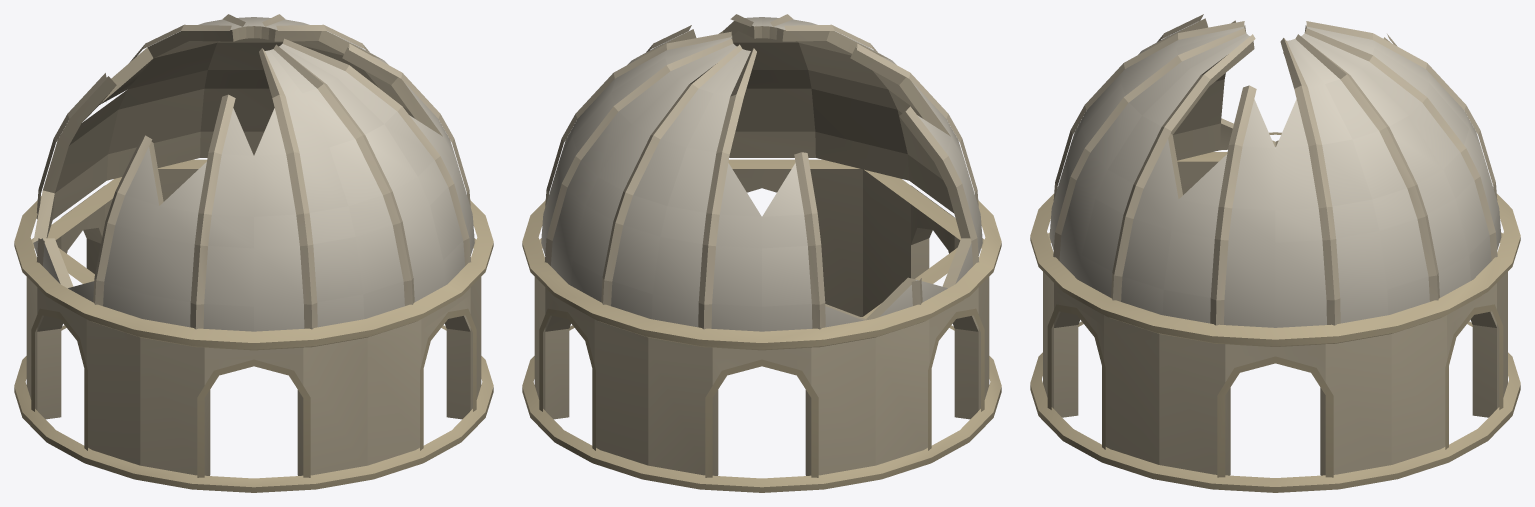
The model's file is dome.ruin_12.plaster.glb.
The picture shows the model from 3 angles, left to right: view 1: azimuth 30°, elevation 25°; view 2: azimuth 150°, elevation 25°; view 3: azimuth 270°, elevation 25°; orthographic projection. The views are drawn at different scales.
Visible parts, largest first — view 1: dome_ruin_12_plaster; view 2: dome_ruin_12_plaster; view 3: dome_ruin_12_plaster.
Boxes of the visible parts, x1,y1,x2,y2 form: dome_ruin_12_plaster: (14, 14, 493, 492); dome_ruin_12_plaster: (522, 14, 1001, 492); dome_ruin_12_plaster: (1030, 14, 1520, 492).
Size of what is drawn, in the model's own units: 7.6 by 6.23 by 7.6.
